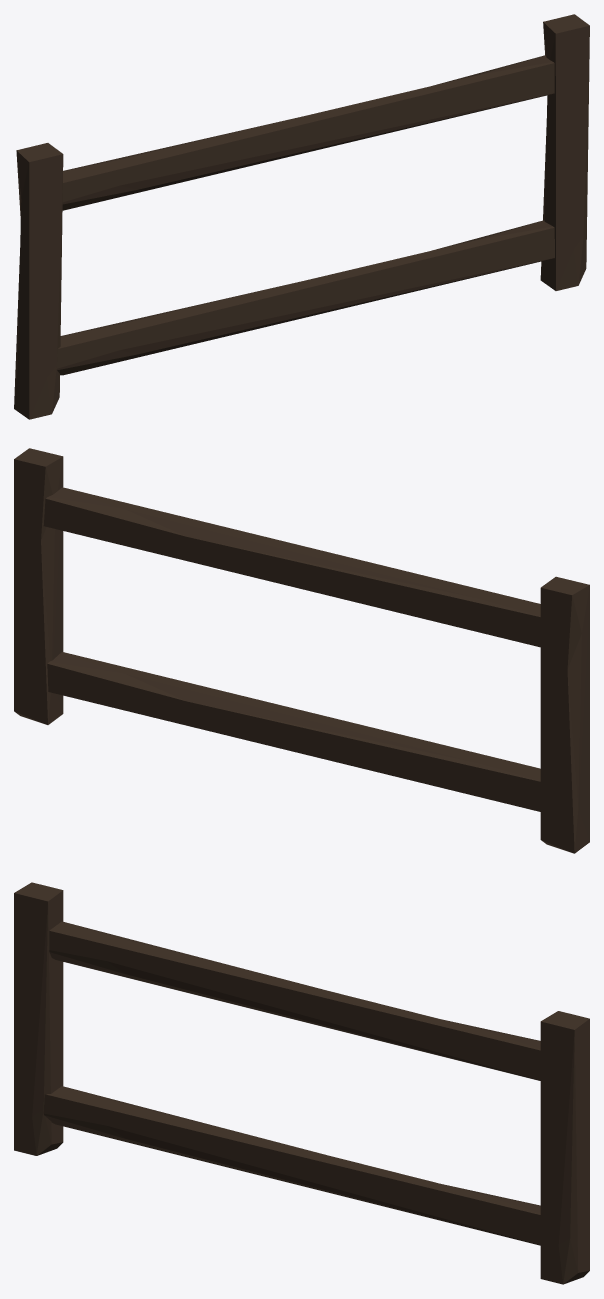
Rendered from SM_fence_norse_02.fbx.
The picture shows the model from 3 angles, top to bottom: view 1: azimuth 30°, elevation 25°; view 2: azimuth 150°, elevation 25°; view 3: azimuth 330°, elevation 25°; orthographic projection.
Parts seen in each view (by area): view 1: Object334; view 2: Object334; view 3: Object334.
Boxes of the visible parts, x1=… form: Object334: x1=14, y1=14, x2=589, y2=419; Object334: x1=14, y1=448, x2=589, y2=853; Object334: x1=14, y1=882, x2=589, y2=1284.
Size of the model in its own units: 90.28 by 39.69 by 4.29.
